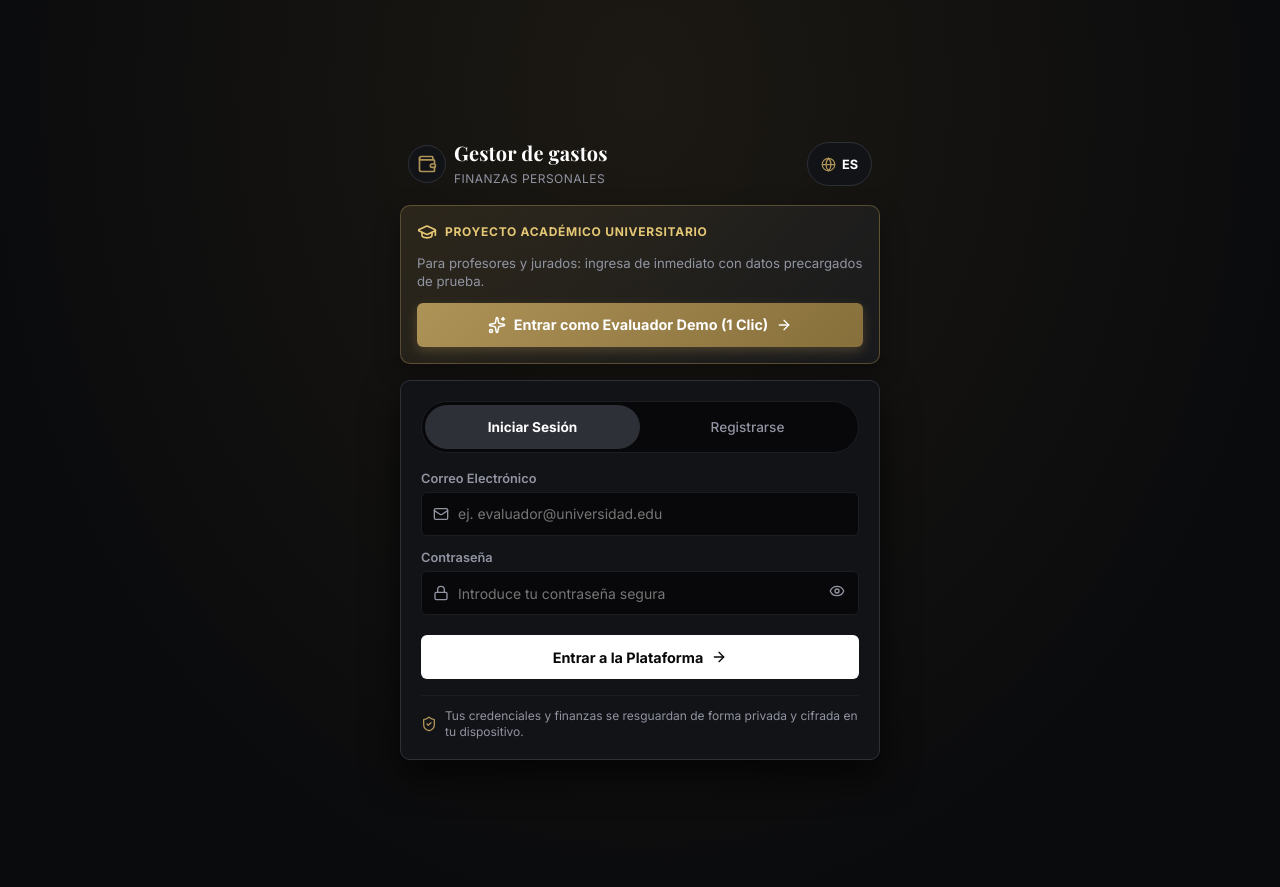
Test case: Autenticación y Perfiles Universitarios (Opción A) › permite registrar una cuenta nueva con contraseña cifrada y nombre de universidad
// Cambiar a pestaña Registrarse
Click the button "Registrarse".
click(748, 427)  # box [640,405,855,449]
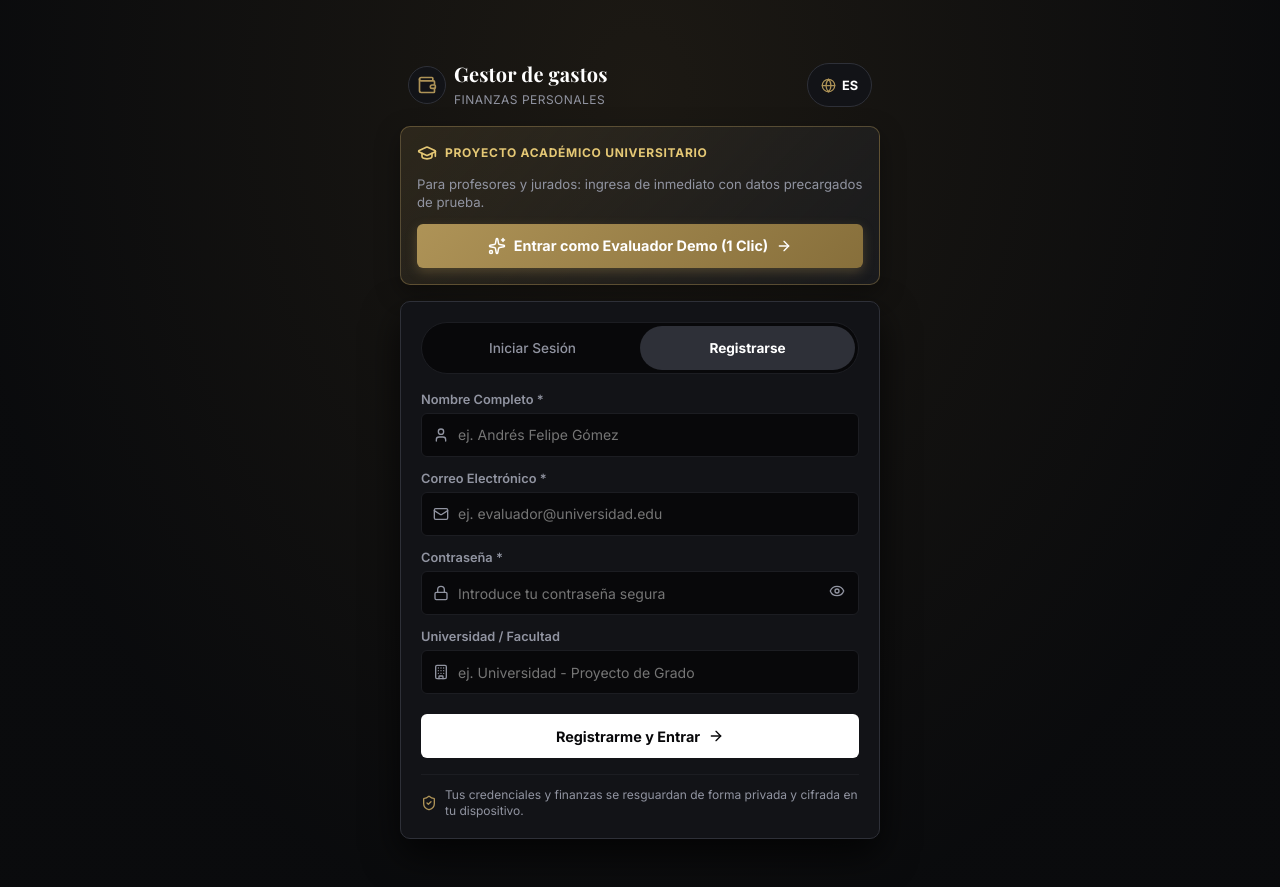
Type "Laura Martínez" into the field labelled "Nombre Completo *".
click(640, 435); type("Laura Martínez")  # box [421,413,859,457]
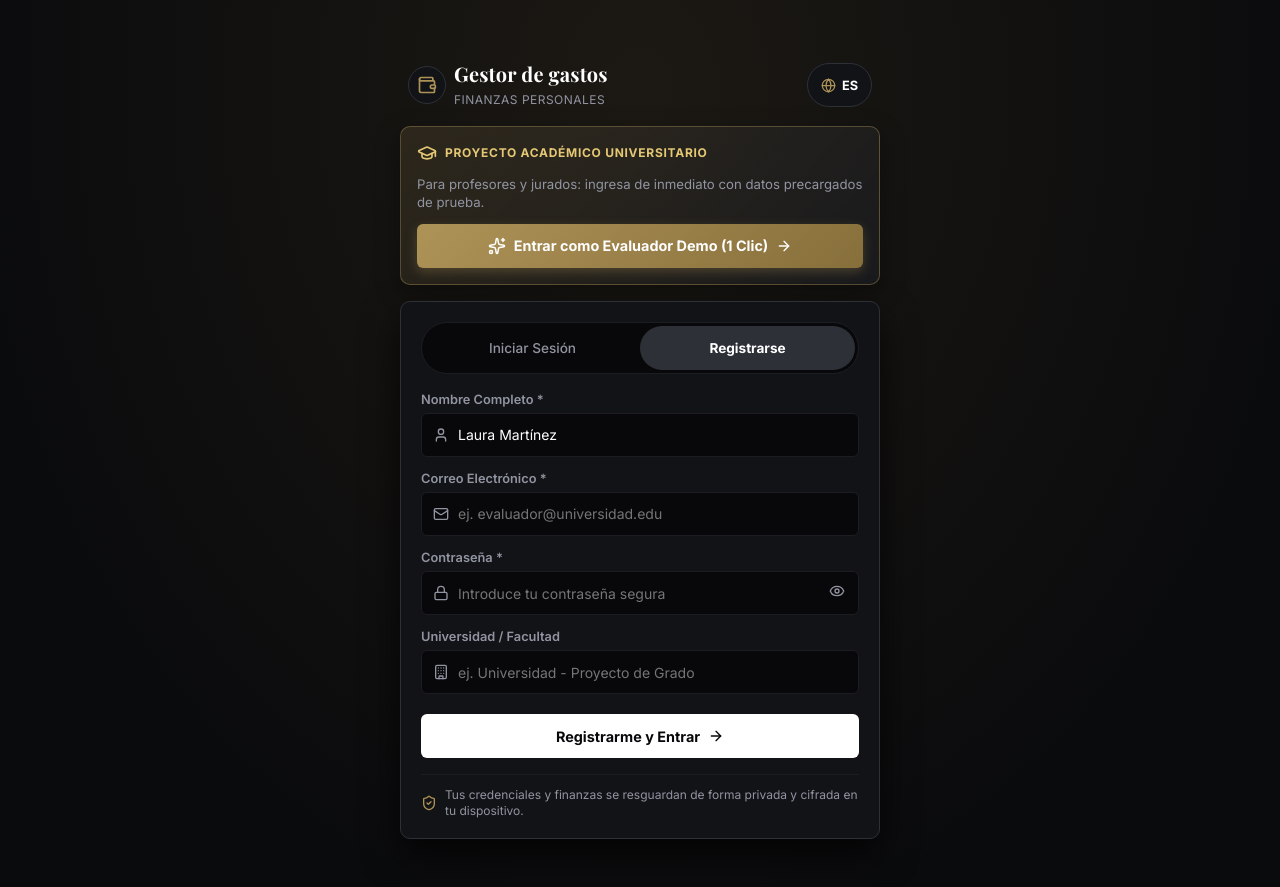
Type "laura@universidad.edu" into the field labelled "Correo Electrónico *".
click(640, 514); type("laura@universidad.edu")  # box [421,492,859,536]
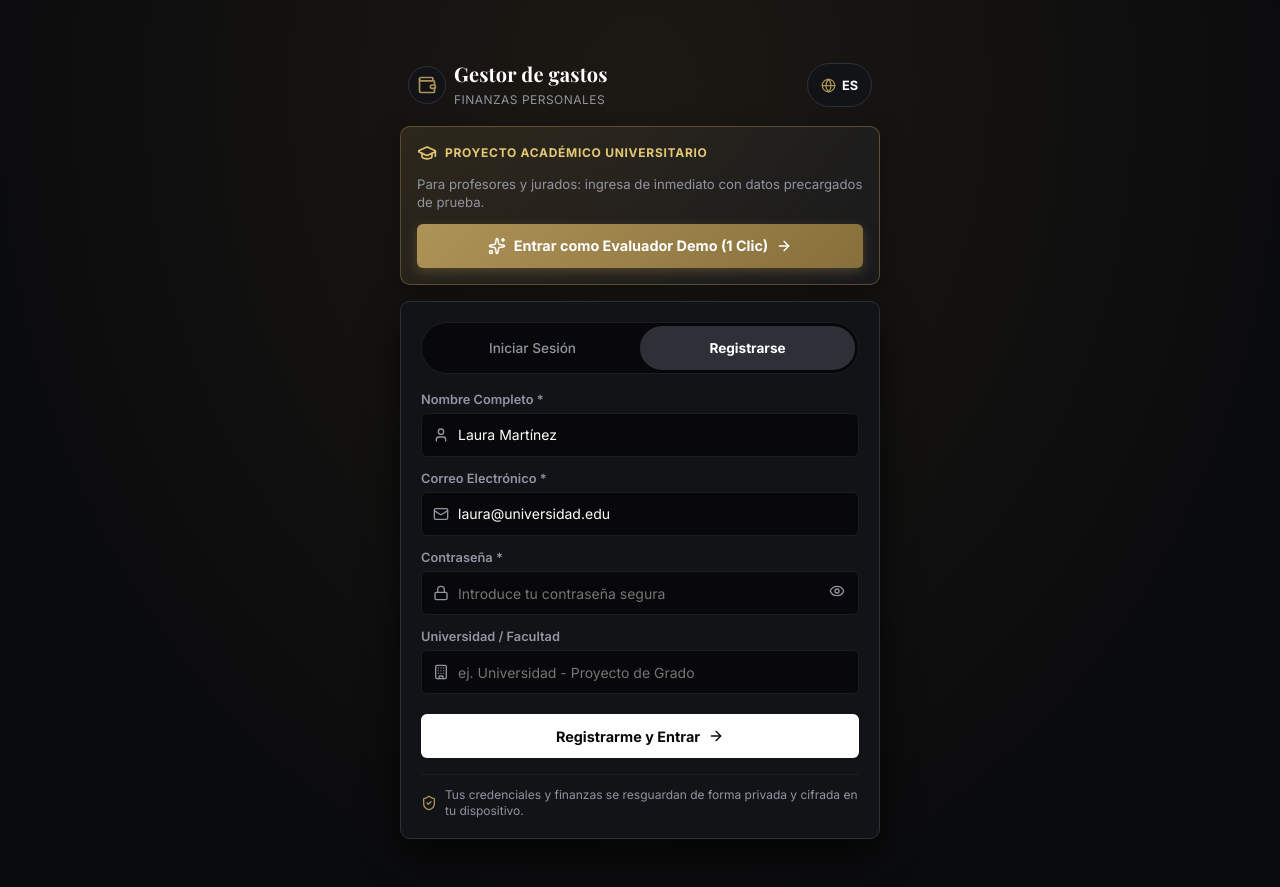
Type "segura123" into the password field labelled "Contraseña *".
click(640, 593); type("segura123")  # box [421,571,859,615]
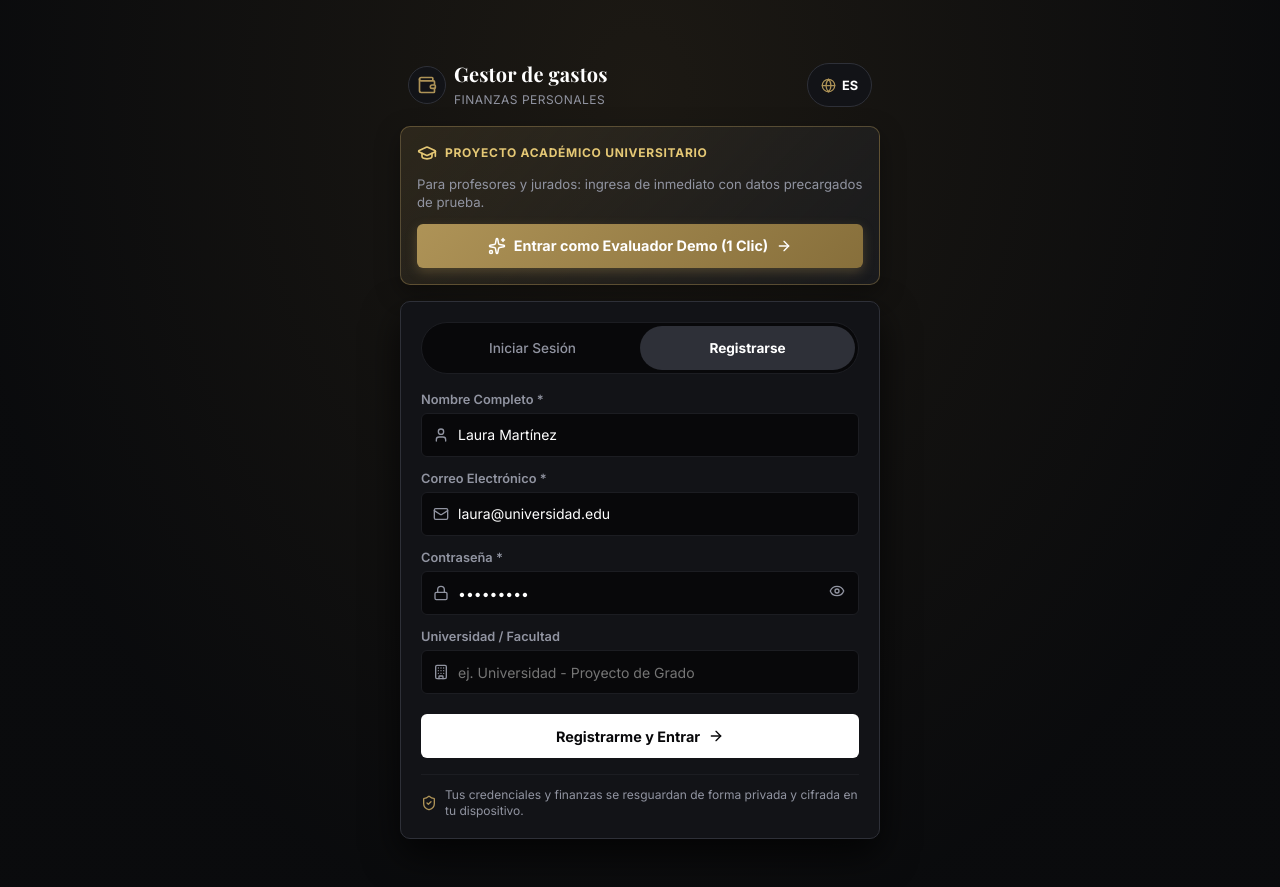
Type "Universidad de los Andes" into the field labelled "Universidad / Facultad".
click(640, 672); type("Universidad de los Andes")  # box [421,650,859,694]
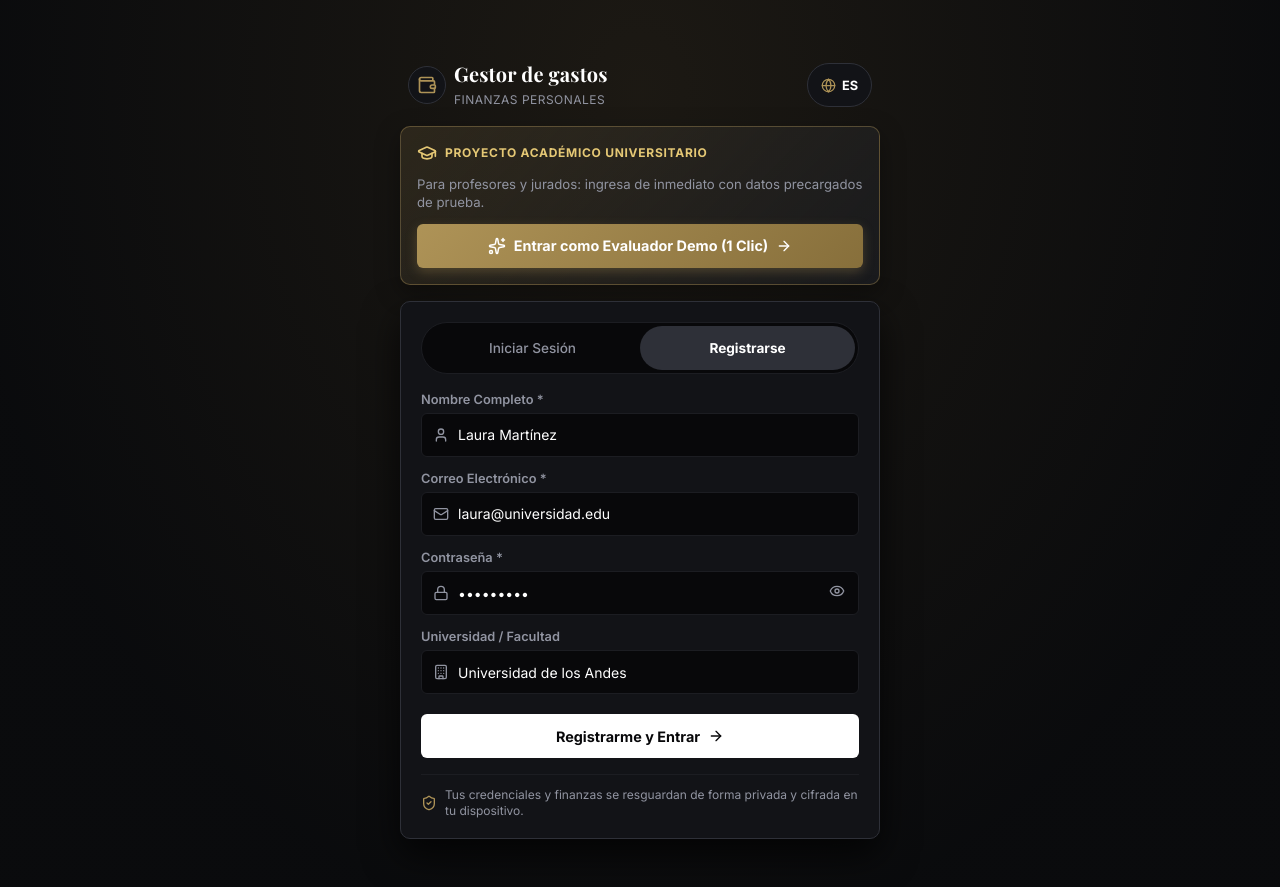
Click the button "Registrarme y Entrar".
click(640, 736)  # box [421,714,859,758]
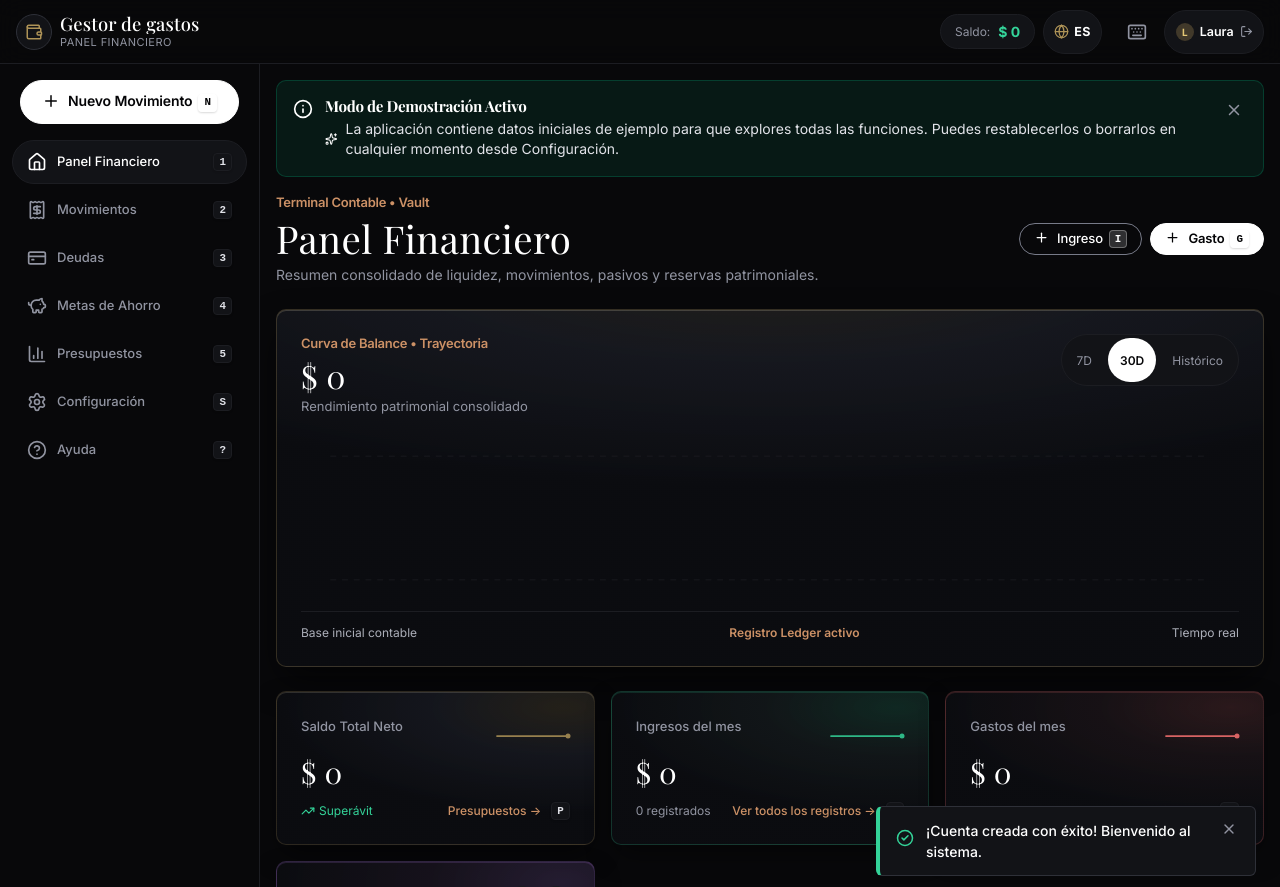
Result: the text "Saldo Total Neto" is shown at [301,717,403,736]
Result: the text "$ 0" next to "Saldo:" is shown at [998,23,1020,40]
